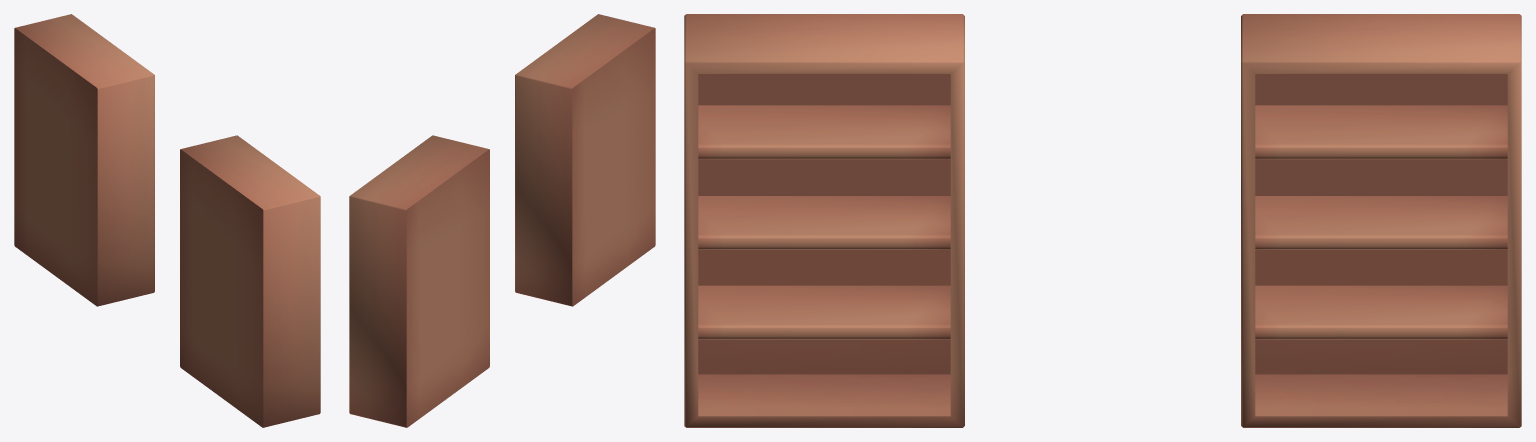
Rendered from BookShelves2.1.fbx.
3 views of the same model, side by side, from view 1: azimuth 30°, elevation 25°; view 2: azimuth 150°, elevation 25°; view 3: azimuth 270°, elevation 25° (orthographic). The views are drawn at different scales.
Visible parts, largest first — view 1: BookShelves2.1; view 2: BookShelves2.1; view 3: BookShelves2.1.
Boxes of the visible parts, x1=… form: BookShelves2.1: x1=14, y1=14, x2=320, y2=427; BookShelves2.1: x1=349, y1=14, x2=655, y2=427; BookShelves2.1: x1=684, y1=14, x2=1521, y2=427.
Size of the model in its own units: 4.55 by 0.6103 by 2.21.
